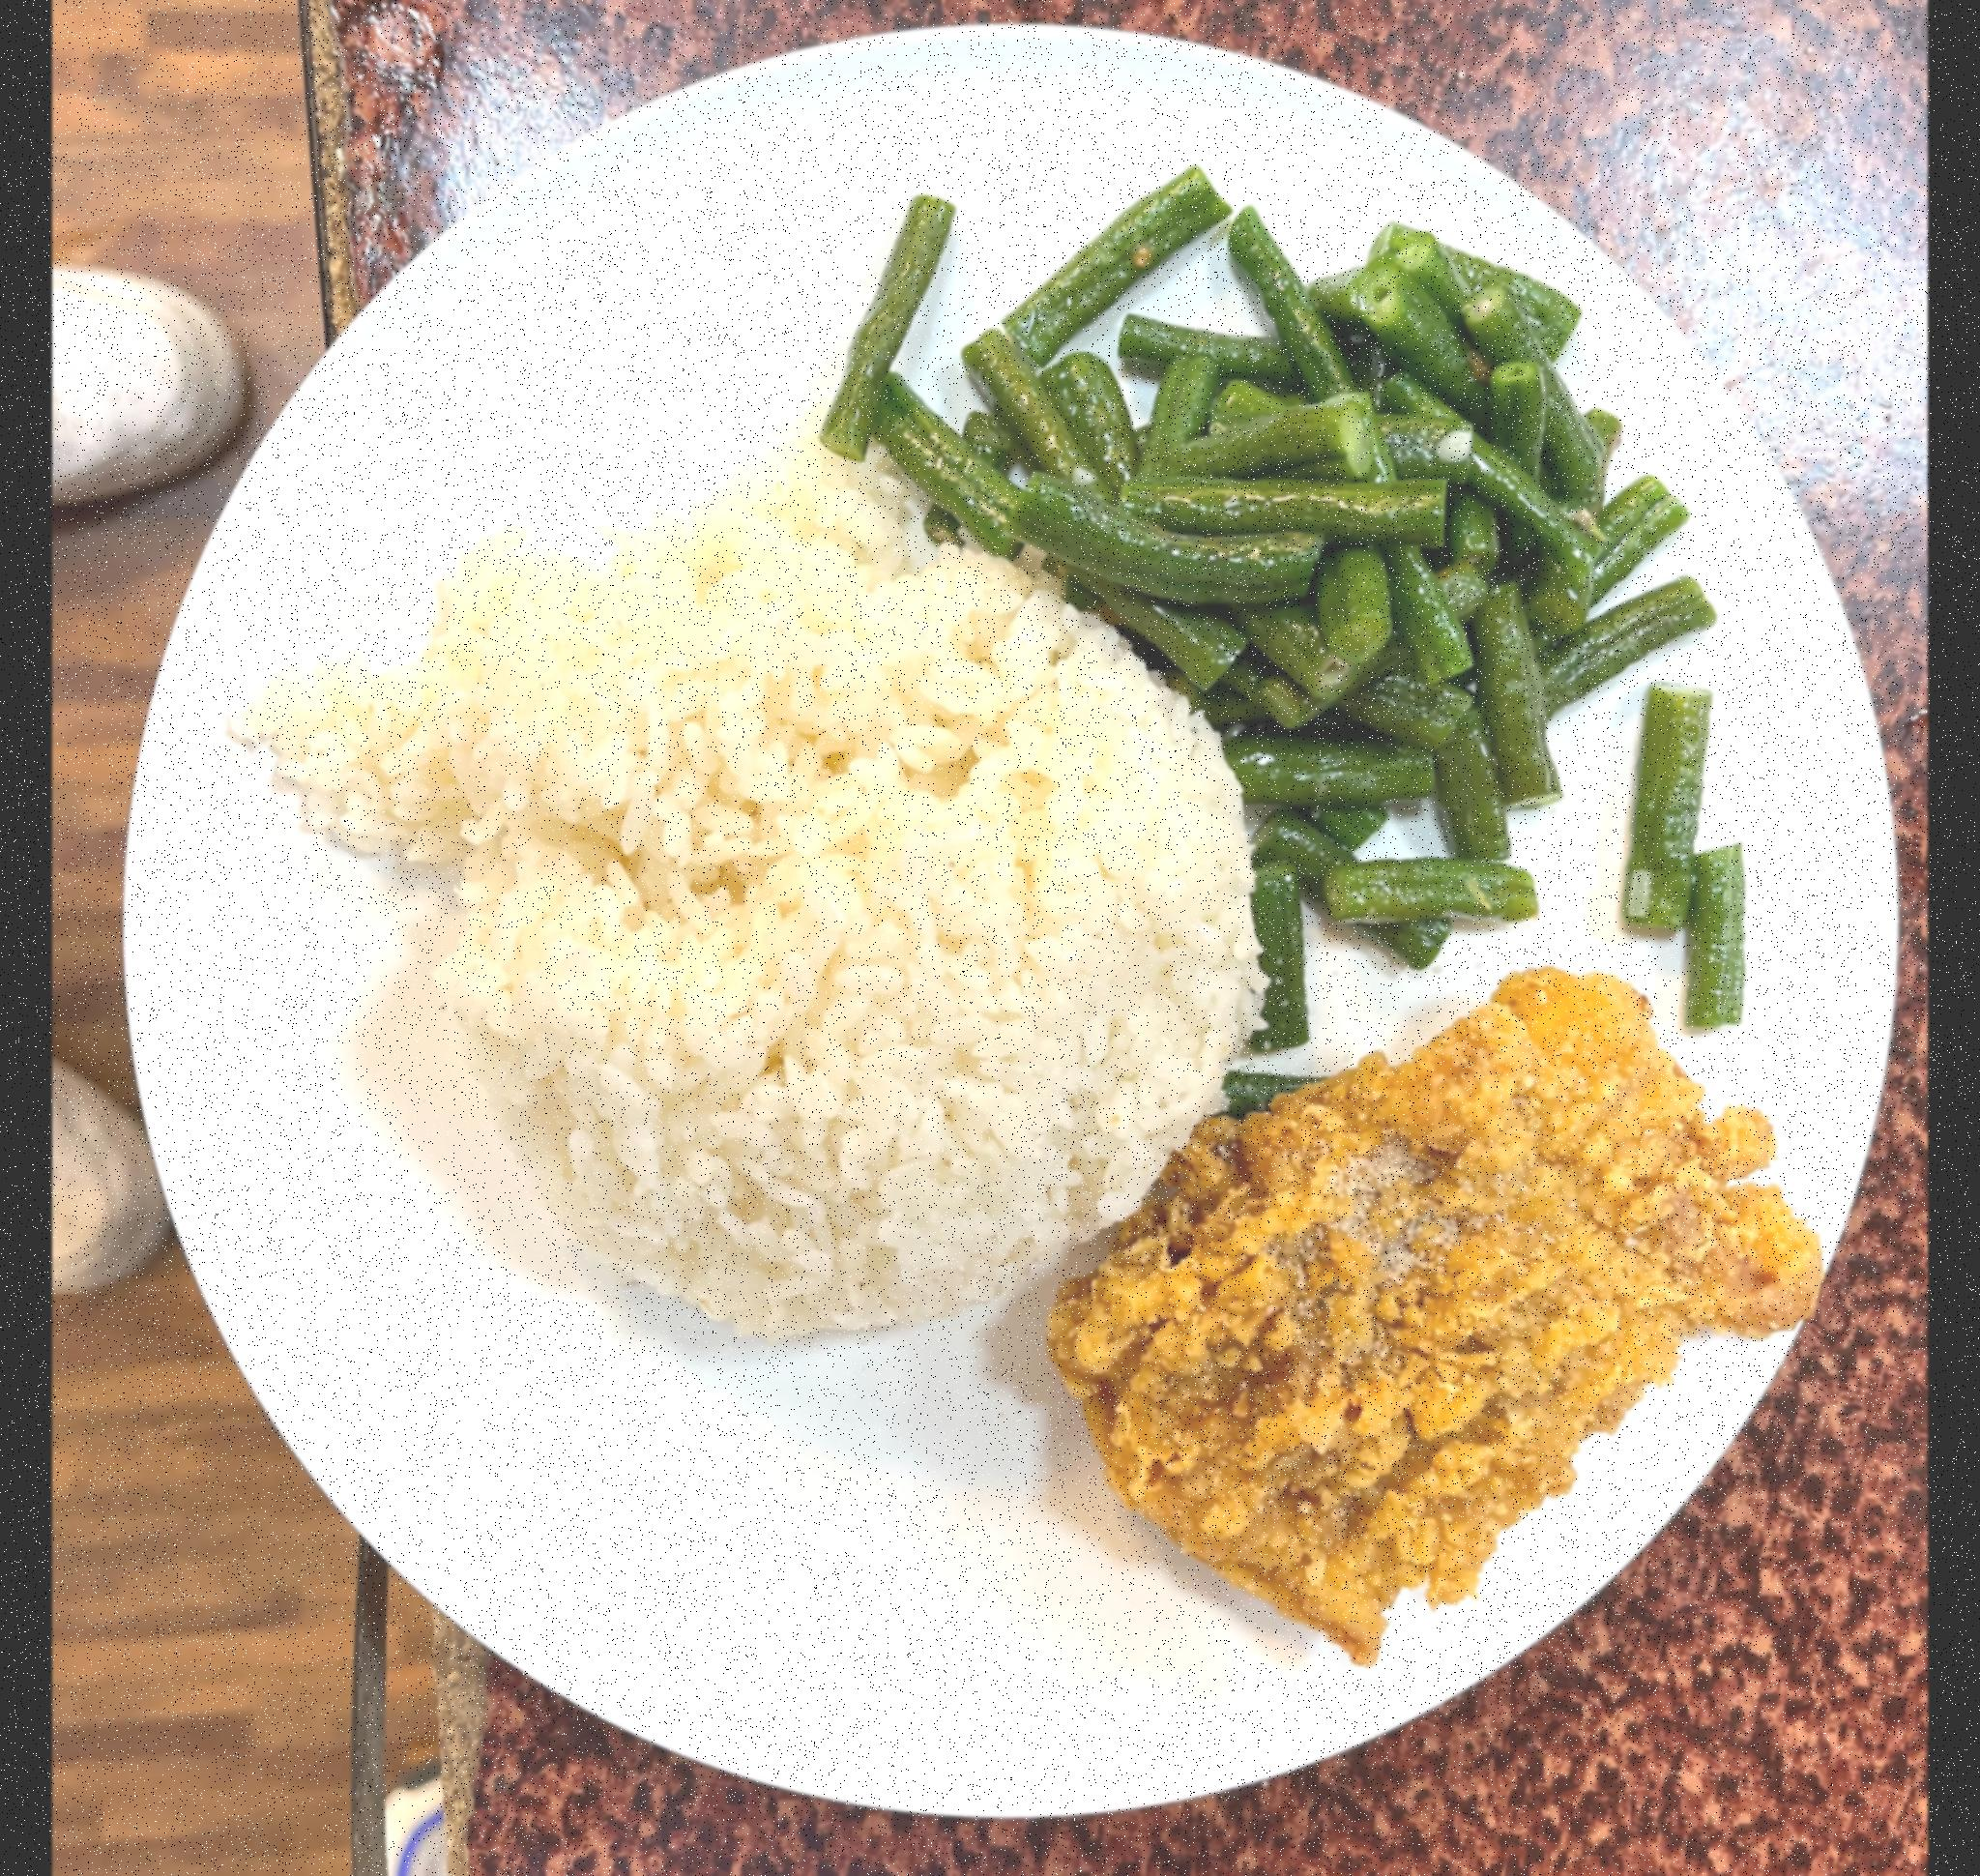kara chicken leg steak: (1049, 950, 1834, 1682)
plate: (97, 0, 1911, 1834)
side dish: (800, 136, 1786, 1024)
white rice: (236, 469, 1257, 1345)
